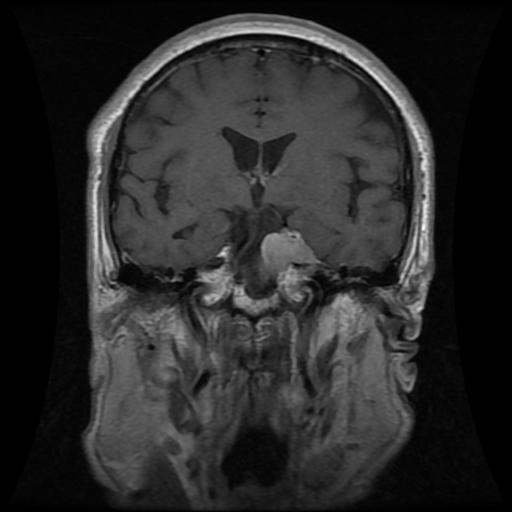Menigiomia_tumour: (261, 226, 315, 276)
